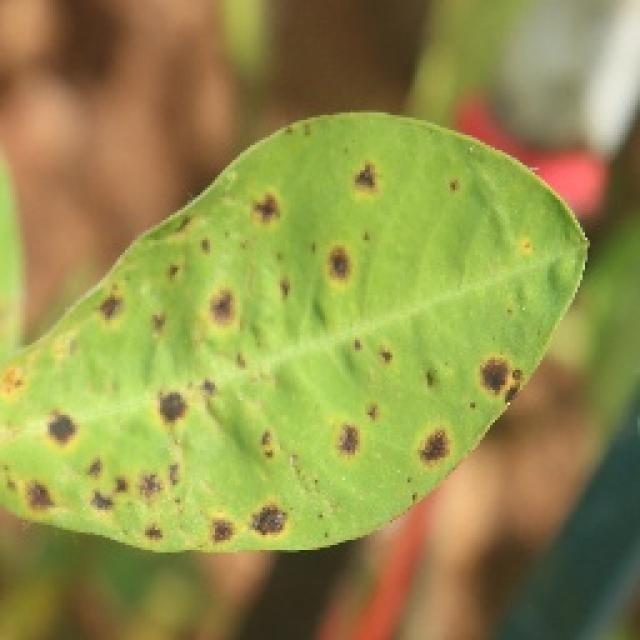Yellowish: (0, 122, 536, 558)
